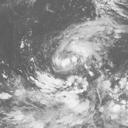cyclone: (32, 40, 97, 98)
